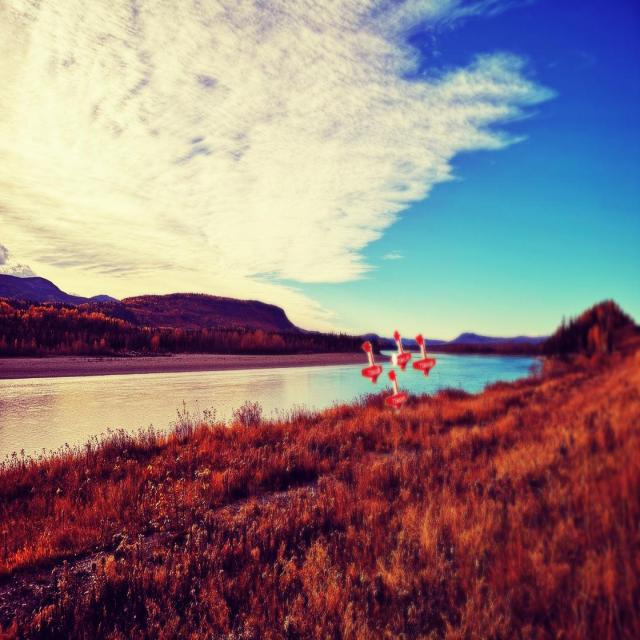airplane: (413, 326, 437, 381), (385, 369, 411, 417), (360, 338, 382, 386), (389, 330, 412, 372)
